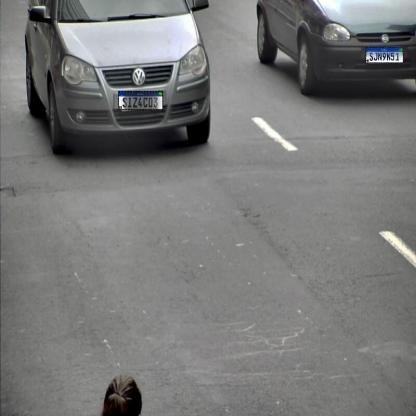PlacaM: (118, 91, 163, 110), (366, 47, 404, 63)
